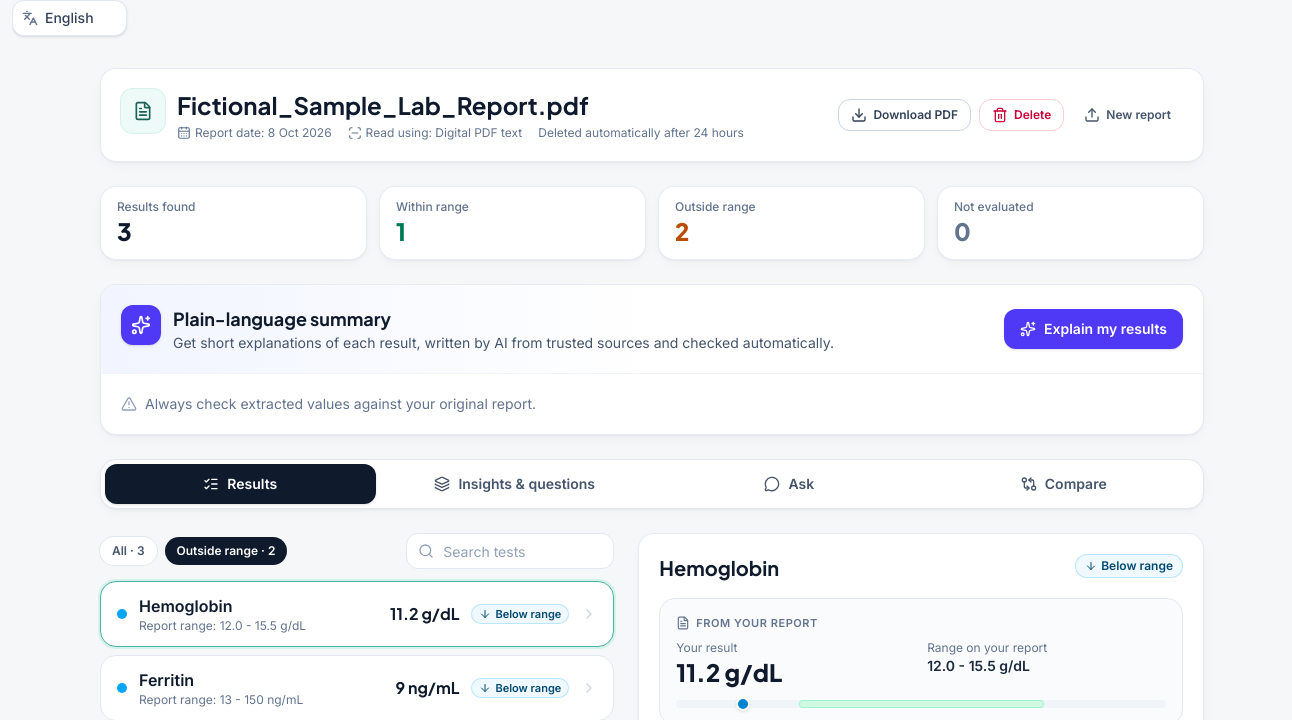
Test case: report dashboard › chat shows an error with retry
The width and height of the screenshot is (1292, 720).
Click the tab "Ask": (789, 484) [654,464,924,504]
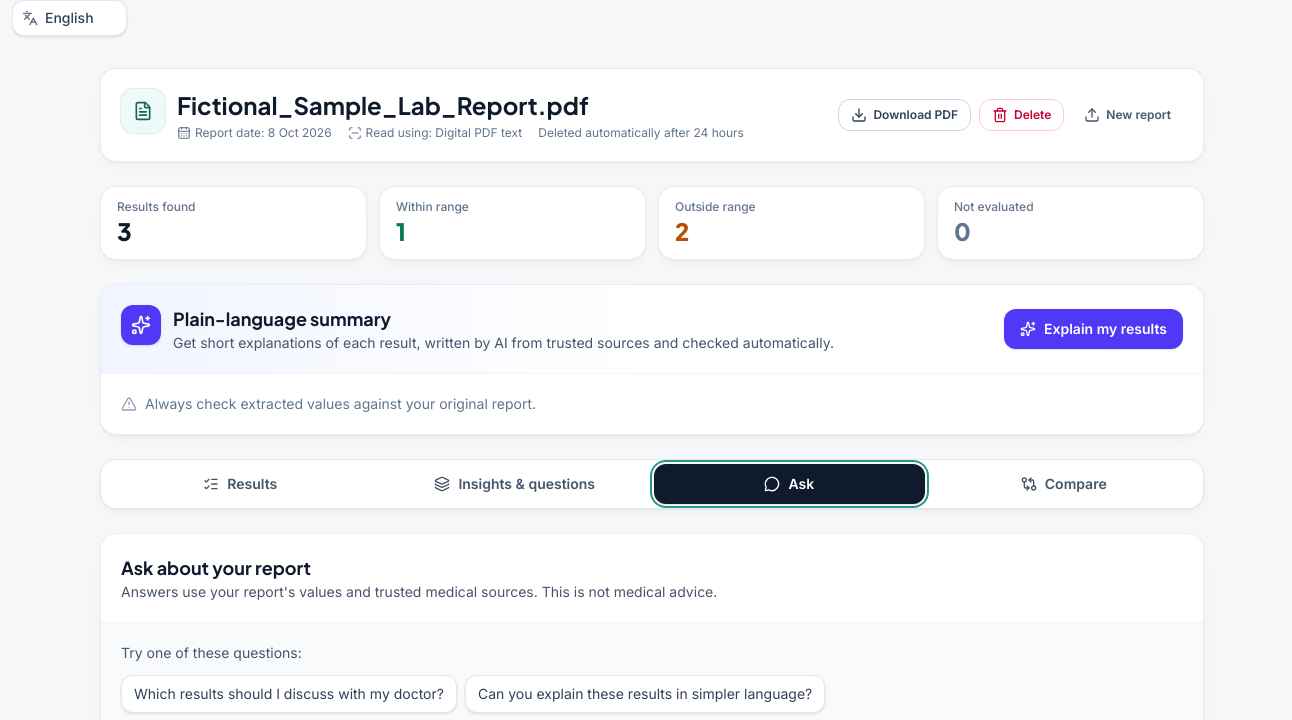
Click the button "Which results should I discuss with my doctor?": (289, 694) [121,675,457,713]
(page scrolled)
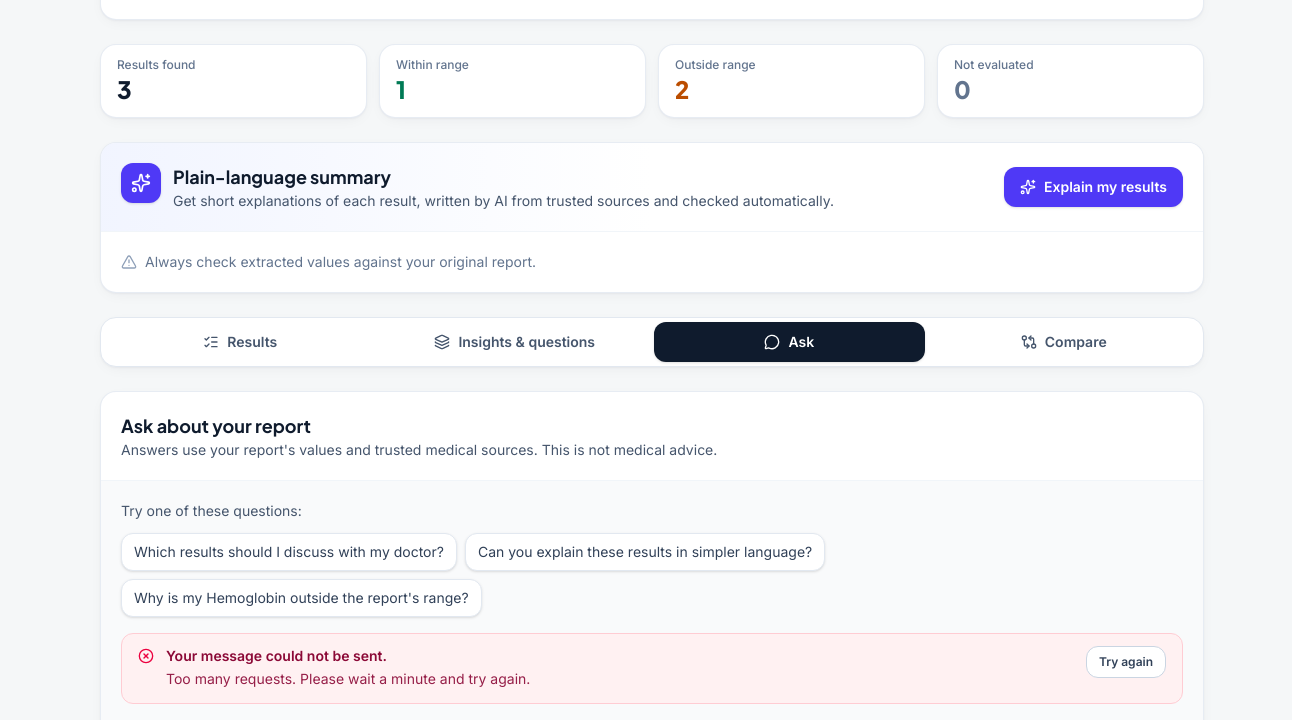
Expected: the text "Too many requests. Please wait a minute and try again." is shown, [166,670,530,687]
Click the button "Try again": (1126, 662) [1086,646,1166,678]
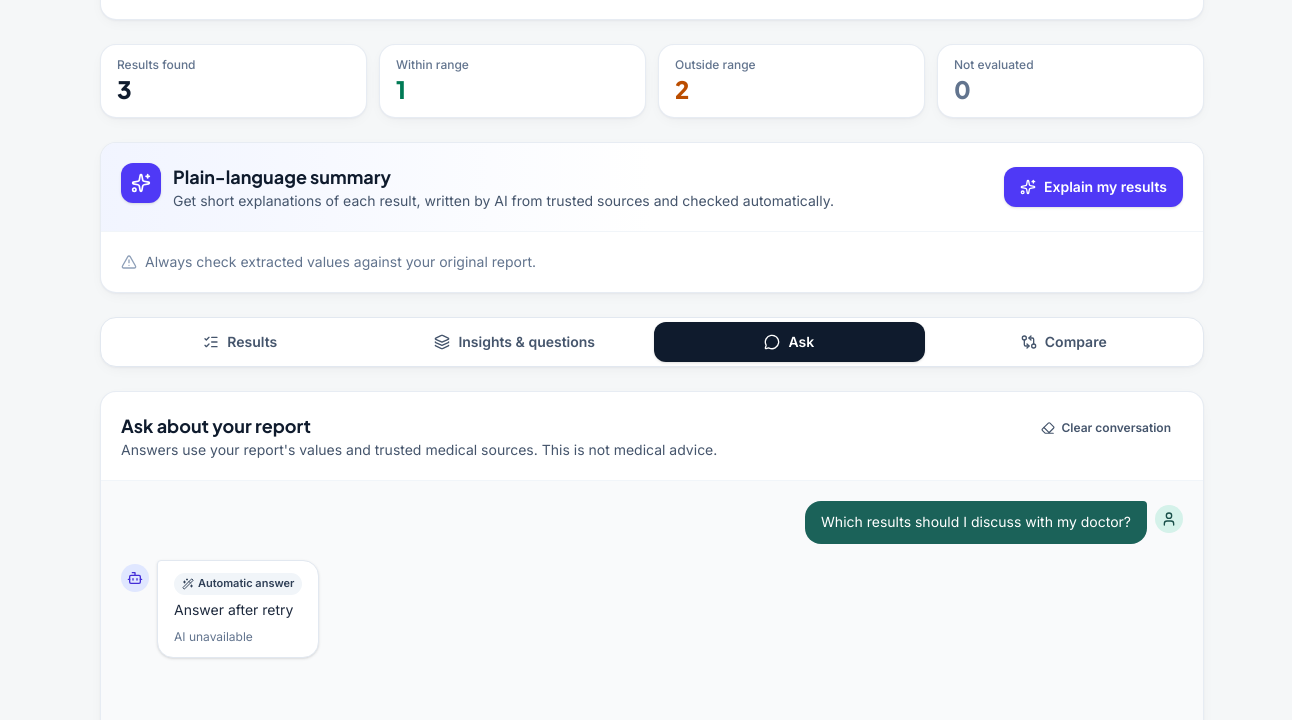
Expected: the text "Answer after retry" is shown, [174,599,302,621]
Expected: the text "Automatic answer" is shown, [174,573,302,595]
